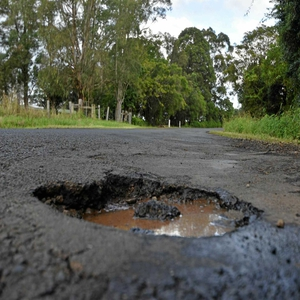pothole: (33, 164, 262, 244)
